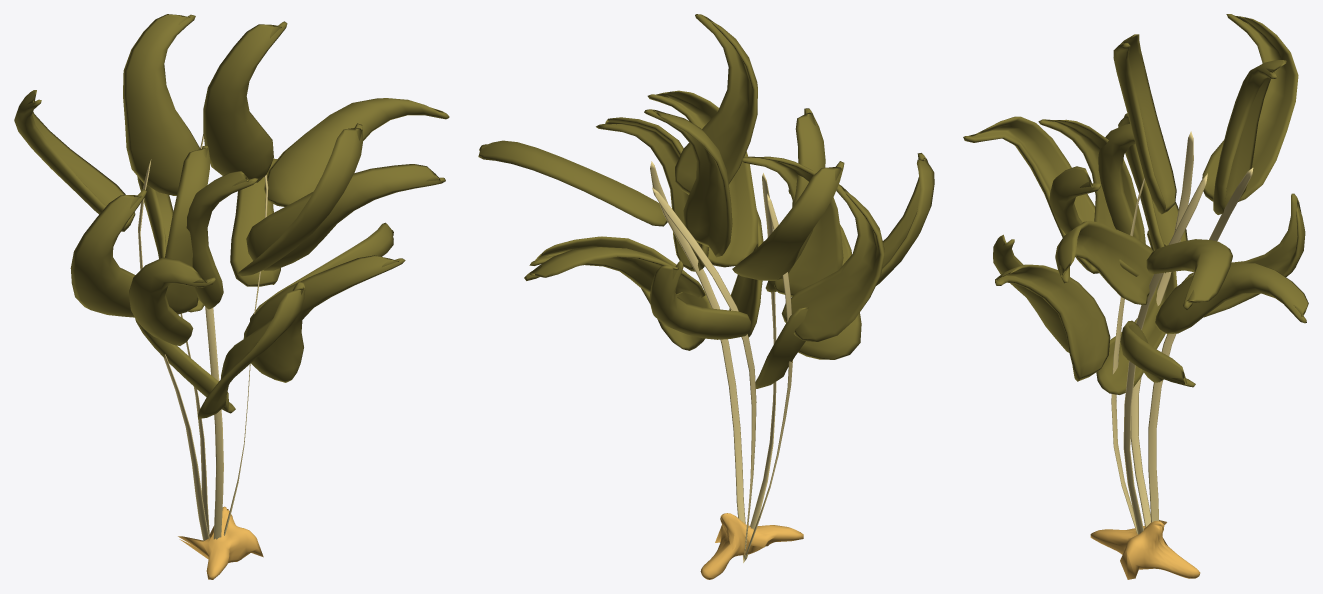
Rendered from ginger.fbx.
The picture shows the model from 3 angles, left to right: view 1: azimuth 30°, elevation 25°; view 2: azimuth 150°, elevation 25°; view 3: azimuth 270°, elevation 25°; orthographic projection. The views are drawn at different scales.
Visible parts, largest first — view 1: Plane.002, Sphere; view 2: Plane.002, Sphere; view 3: Plane.002, Sphere.
Part boxes in pixels (bbox=[...]): Plane.002: bbox=[14, 14, 449, 540]; Sphere: bbox=[178, 506, 263, 579]; Plane.002: bbox=[478, 14, 934, 562]; Sphere: bbox=[700, 513, 803, 579]; Plane.002: bbox=[963, 14, 1308, 534]; Sphere: bbox=[1090, 520, 1200, 579].
Bounding box in the file's own units: 194 × 253 × 143.
